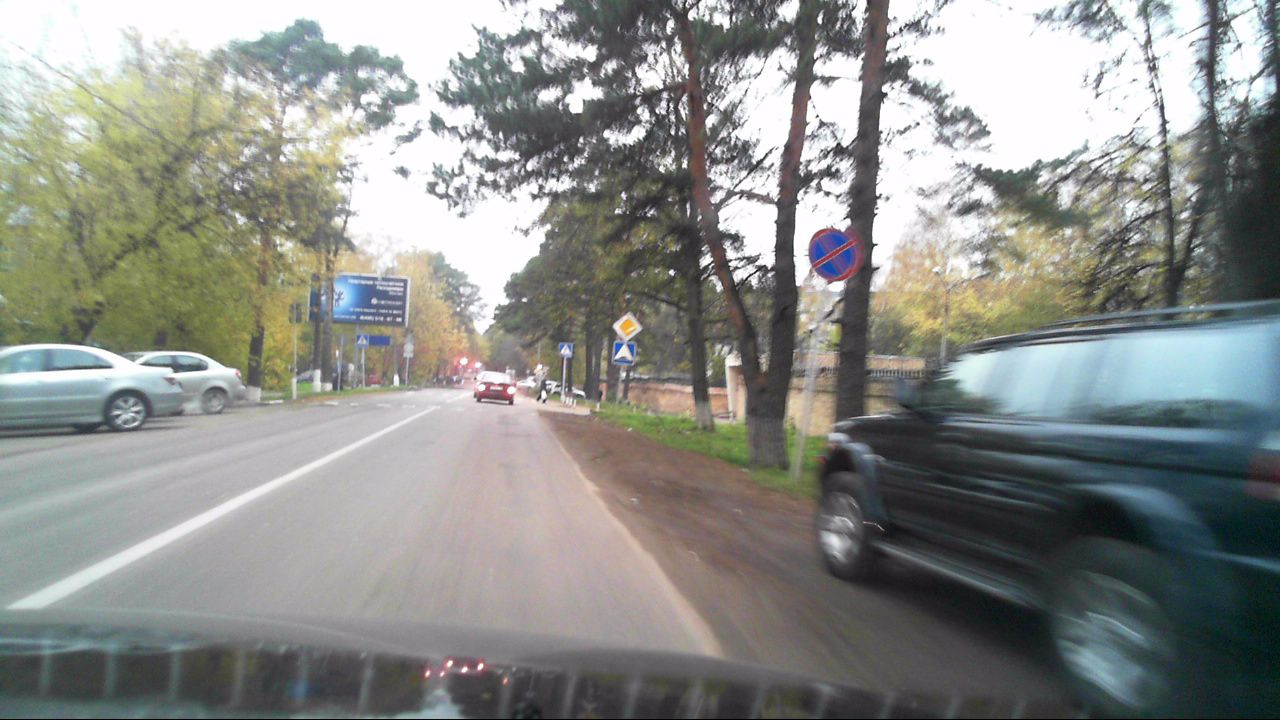No Parking: (808, 227, 860, 281)
